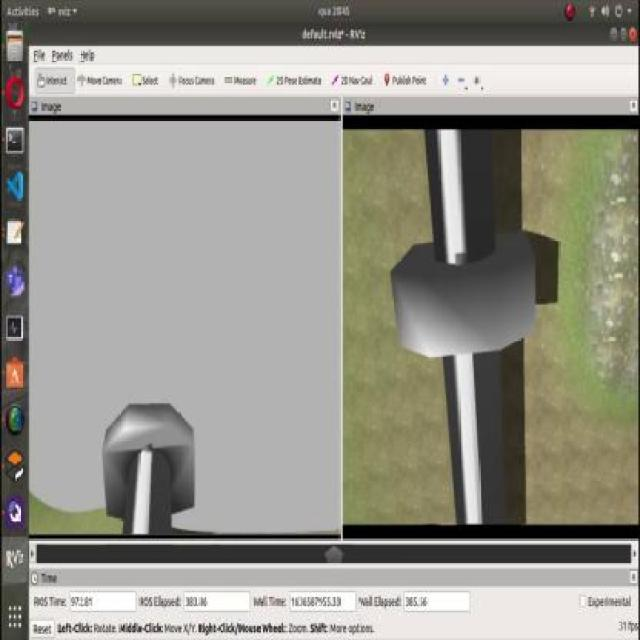gas: (429, 132, 494, 526), (120, 442, 168, 536)
